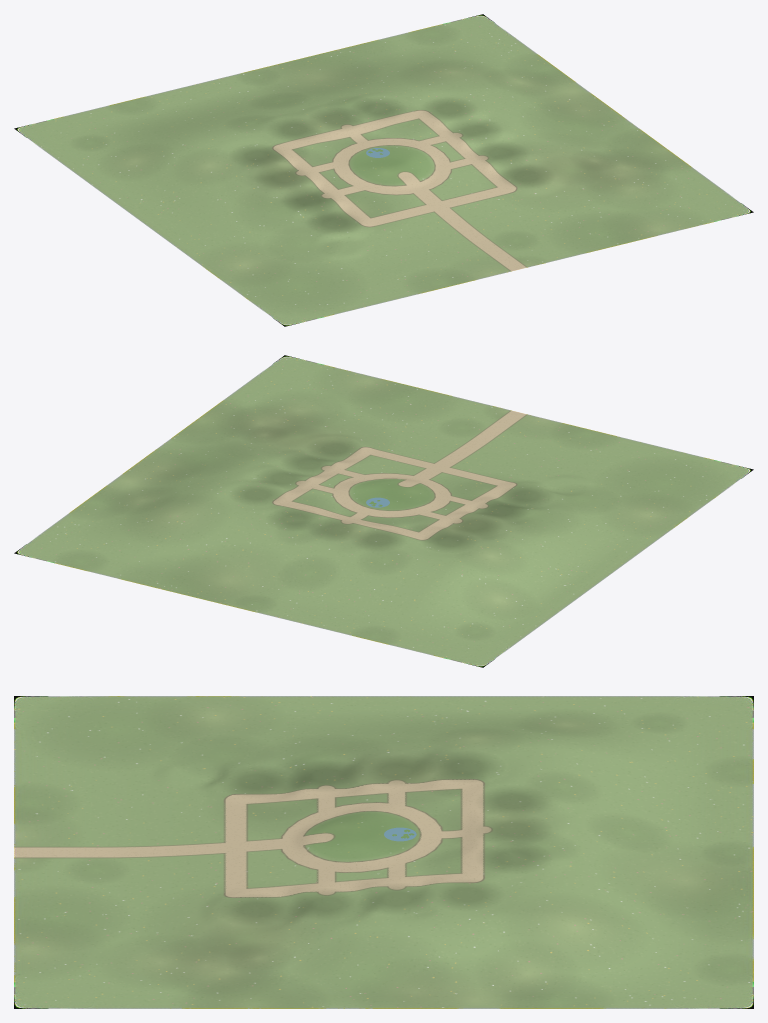
File: terreno_sur_el_ingenio.fbx
The picture shows the model from 3 angles, top to bottom: view 1: azimuth 30°, elevation 25°; view 2: azimuth 150°, elevation 25°; view 3: azimuth 270°, elevation 25°; orthographic projection. The views are drawn at different scales.
Parts seen in each view (by area): view 1: piso; view 2: piso; view 3: piso.
Boxes of the visible parts, left/top/right/bottom form: piso: left=14, top=14, right=753, bottom=326; piso: left=14, top=355, right=753, bottom=667; piso: left=14, top=696, right=753, bottom=1008.
Size of the model in its own units: 10000 by 340 by 10000.
Materials: 8 (1 with a texture image).
